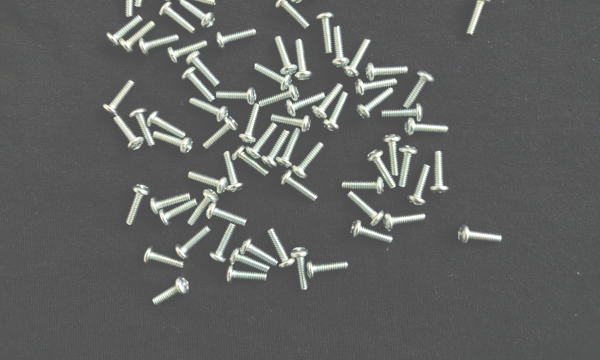shortscrew: (347, 192, 385, 227), (356, 87, 395, 120), (231, 144, 270, 176), (181, 67, 215, 103), (203, 117, 239, 151), (186, 50, 219, 87), (292, 142, 324, 180), (403, 70, 434, 109), (366, 149, 396, 189), (311, 84, 343, 121), (281, 170, 319, 201), (342, 39, 371, 79), (102, 81, 134, 117), (246, 123, 278, 159), (158, 199, 199, 227), (268, 228, 296, 269), (188, 190, 219, 227), (152, 277, 190, 307), (206, 201, 248, 228), (176, 227, 210, 260), (120, 22, 155, 54), (107, 16, 142, 47), (275, 0, 311, 30), (180, 0, 216, 30), (209, 224, 236, 264), (255, 63, 292, 92), (130, 108, 156, 149), (323, 92, 349, 133), (262, 130, 290, 168), (241, 238, 279, 266), (115, 116, 145, 151), (147, 111, 187, 137), (350, 220, 393, 244), (126, 185, 151, 226), (190, 98, 230, 123), (230, 248, 270, 273), (167, 41, 208, 65), (153, 131, 194, 155), (285, 93, 325, 117), (143, 246, 186, 268), (459, 225, 504, 246), (149, 193, 190, 216), (224, 151, 245, 195), (275, 36, 298, 76), (398, 145, 419, 188), (188, 172, 229, 194), (466, 0, 491, 36), (260, 86, 300, 108), (216, 28, 257, 49), (139, 35, 179, 56), (216, 88, 257, 108), (384, 212, 425, 232), (272, 113, 313, 133), (239, 105, 260, 144), (430, 151, 449, 194), (291, 247, 310, 290), (355, 77, 398, 96), (383, 134, 402, 176), (405, 118, 449, 136), (365, 63, 409, 81), (316, 11, 334, 54), (306, 261, 349, 279), (332, 26, 350, 68), (342, 177, 384, 195), (226, 266, 267, 284), (295, 39, 312, 82), (381, 104, 423, 121), (122, 0, 139, 17), (175, 0, 217, 6), (135, 0, 154, 8), (277, 0, 307, 3), (153, 0, 176, 2)
